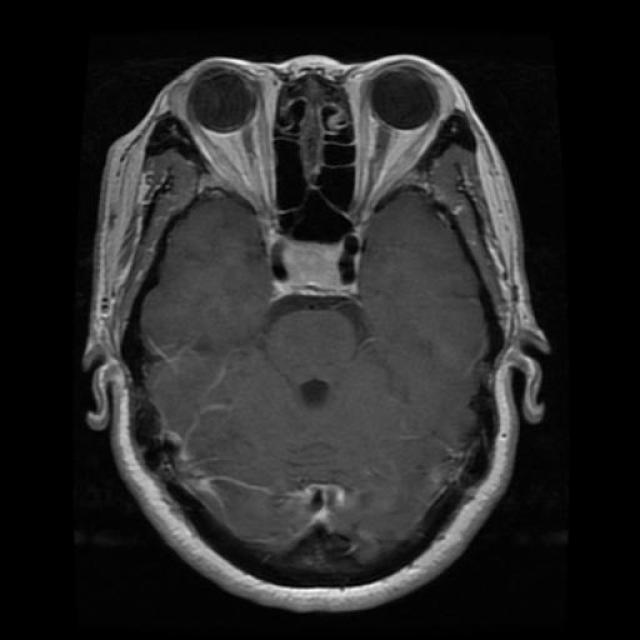pituitary: (262, 242, 362, 306)
